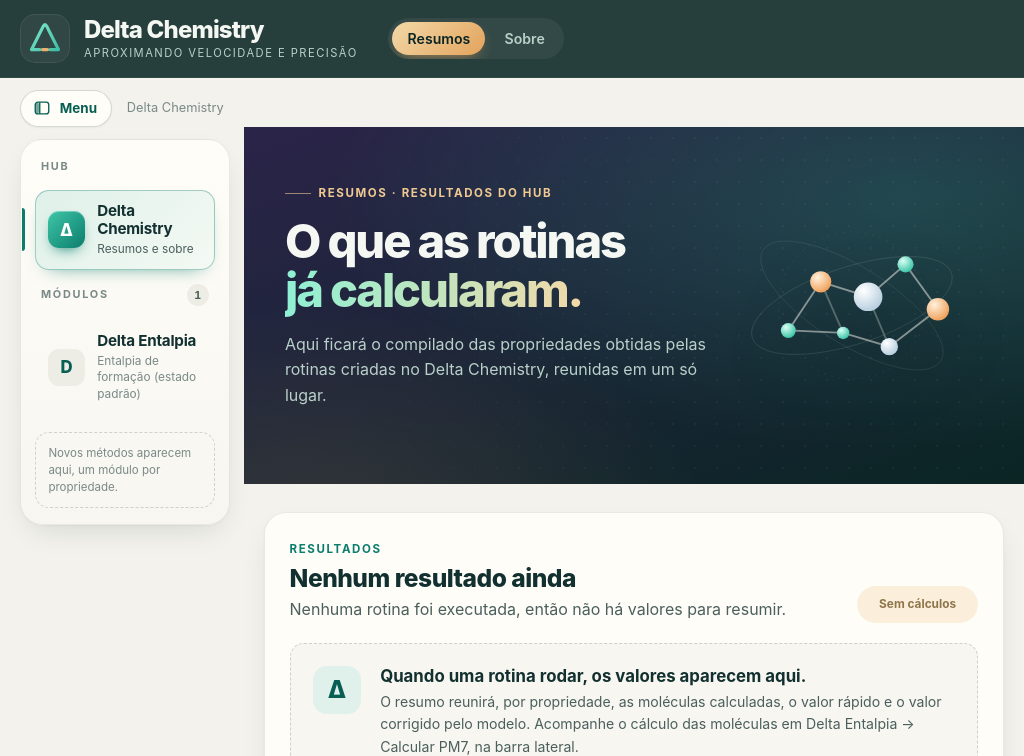
Scenario: aba CBS explica quando o CSV não está no computador
What coordinates should you click on to do the following:
click the button "D Delta Entalpia Entalpia de formação (estado padrão)"
I would click on:
 (125, 367)
Its box is top-left (35, 320), bottom-right (215, 415).
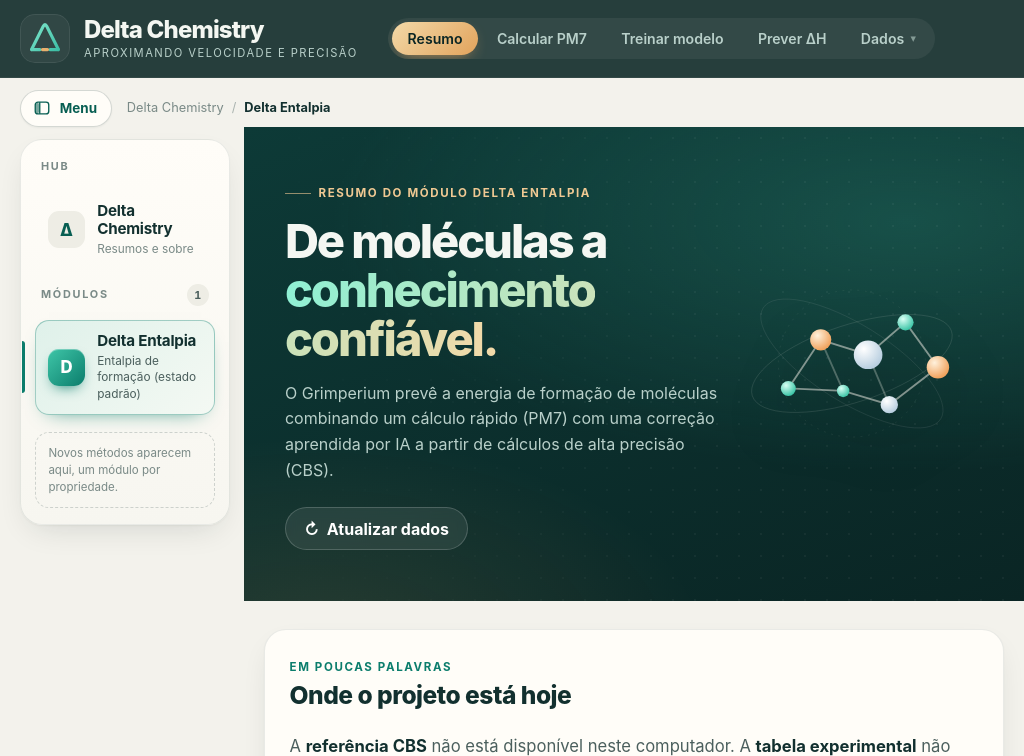
What coordinates should you click on to do the following:
click the button "Dados ▾"
I would click on:
 (888, 38)
Its box is top-left (846, 22), bottom-right (931, 55).
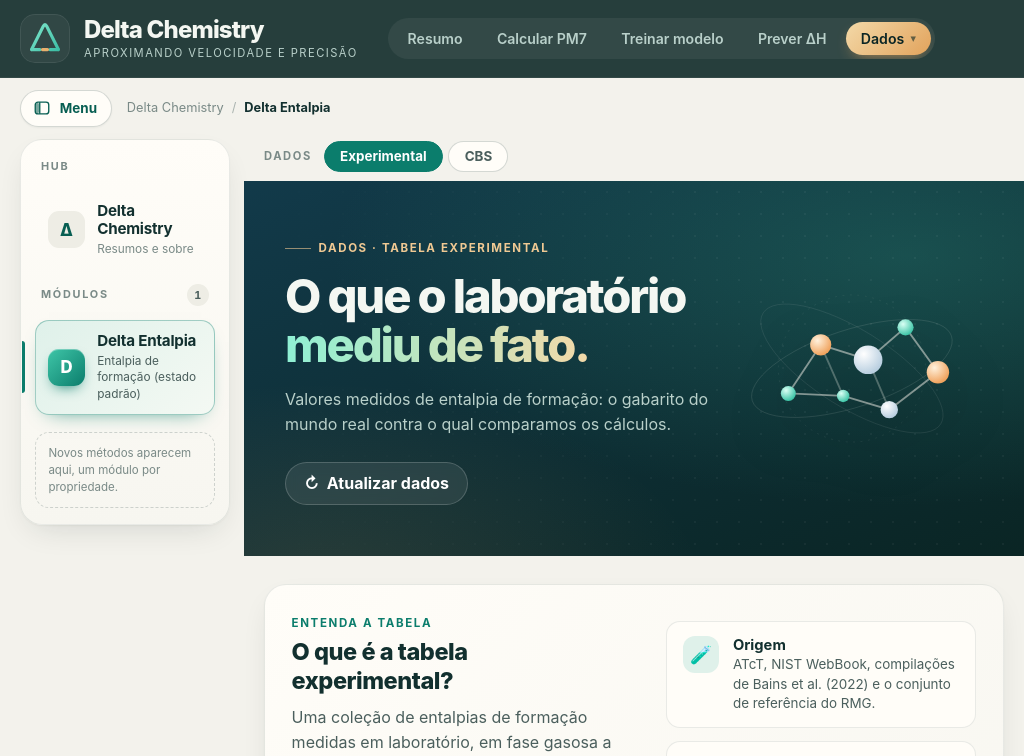
What coordinates should you click on to do the following:
click the button "CBS"
I would click on:
 (478, 156)
Its box is top-left (448, 141), bottom-right (508, 172).
(page scrolled)
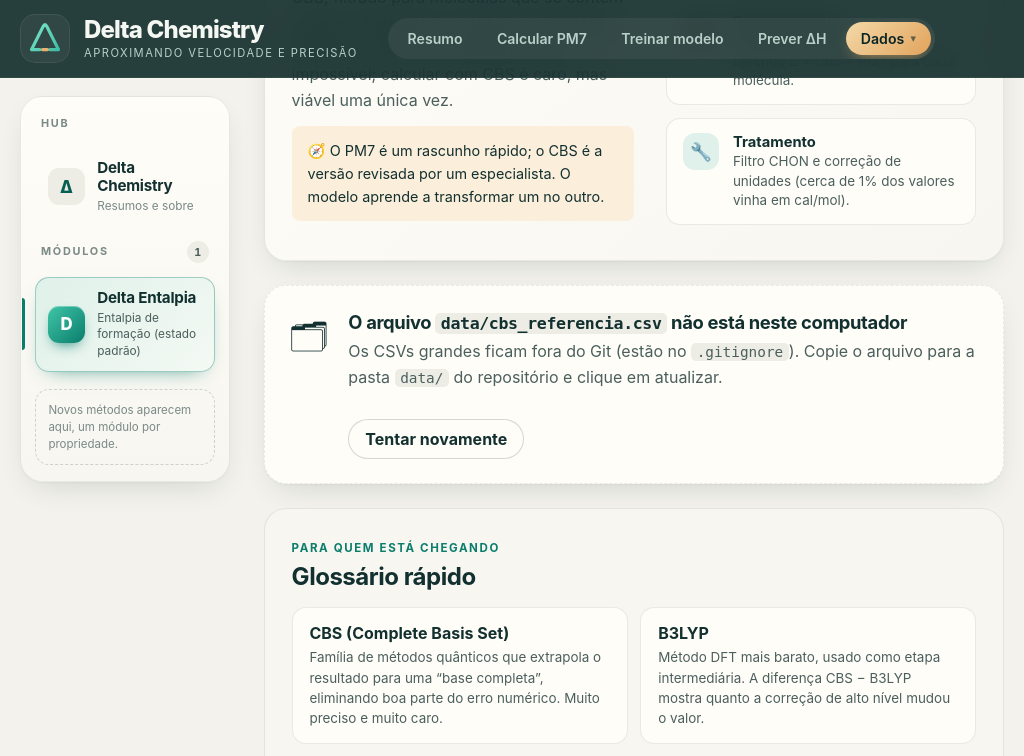
Expected: the element named "Arquivo não encontrado" shows "data/cbs_referencia.csv", top-left (441, 314), bottom-right (662, 333)
